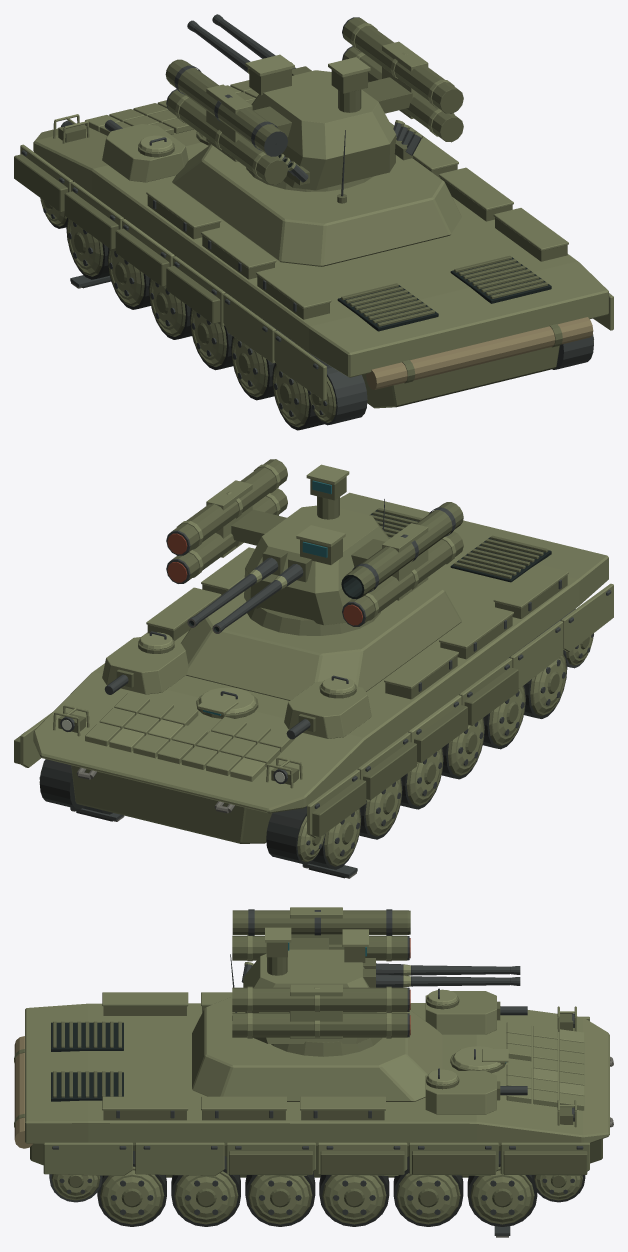
File: bmpt.glb
The picture shows the model from 3 angles, top to bottom: view 1: azimuth 30°, elevation 25°; view 2: azimuth 150°, elevation 25°; view 3: azimuth 270°, elevation 25°; orthographic projection. The views are drawn at different scales.
Parts seen in each view (by area): view 1: Low glacis and fender deck.001, Glacis ERA, fender bins and engine louvers.001, Armored fighting compartment.001, Elevated weapon pedestal and panoramic sight.001, Skirt panels • L.001, Twin 2A42s and four Ataka launch tubes.001, Unditching log and straps.001, Armored keel.001, Twin bow grenade-launcher stations.001, Launch canister | hollow liner.001, WheelL1, WheelL7 (+9 smaller); view 2: Low glacis and fender deck.001, Glacis ERA, fender bins and engine louvers.001, Armored fighting compartment.001, Elevated weapon pedestal and panoramic sight.001, Skirt panels • L.001, Twin 2A42s and four Ataka launch tubes.001, Twin bow grenade-launcher stations.001, Armored keel.001, Launch canister | hollow liner.001, WheelL2, WheelL8, WheelL3 (+9 smaller); view 3: Low glacis and fender deck.001, Glacis ERA, fender bins and engine louvers.001, Skirt panels • R.001, Armored fighting compartment.001, Twin 2A42s and four Ataka launch tubes.001, Elevated weapon pedestal and panoramic sight.001, Twin bow grenade-launcher stations.001, Launch canister | hollow liner.001, WheelR4, WheelR7, WheelR8, WheelR3 (+9 smaller).
Boxes of the visible parts, x1,y1,x2,y2 form: Low glacis and fender deck.001: [33, 122, 608, 377]; Glacis ERA, fender bins and engine louvers.001: [85, 80, 568, 331]; Armored fighting compartment.001: [172, 144, 461, 266]; Elevated weapon pedestal and panoramic sight.001: [245, 54, 423, 203]; Skirt panels • L.001: [14, 144, 326, 400]; Twin 2A42s and four Ataka launch tubes.001: [166, 17, 463, 184]; Unditching log and straps.001: [366, 317, 593, 389]; Armored keel.001: [175, 256, 559, 408]; Twin bow grenade-launcher stations.001: [102, 119, 188, 182]; Launch canister | hollow liner.001: [165, 59, 287, 156]; WheelL1: [308, 365, 367, 425]; WheelL7: [231, 320, 294, 400]; Low glacis and fender deck.001: [33, 492, 608, 813]; Glacis ERA, fender bins and engine louvers.001: [85, 508, 568, 781]; Armored fighting compartment.001: [181, 573, 461, 700]; Elevated weapon pedestal and panoramic sight.001: [231, 464, 389, 635]; Skirt panels • L.001: [307, 583, 613, 837]; Twin 2A42s and four Ataka launch tubes.001: [166, 459, 463, 626]; Twin bow grenade-launcher stations.001: [102, 631, 371, 739]; Armored keel.001: [71, 694, 459, 843]; Launch canister | hollow liner.001: [341, 502, 463, 599]; WheelL2: [266, 806, 324, 864]; WheelL8: [505, 639, 567, 718]; WheelL3: [309, 808, 361, 869]; Low glacis and fender deck.001: [25, 1003, 609, 1146]; Glacis ERA, fender bins and engine louvers.001: [51, 992, 584, 1120]; Skirt panels • R.001: [43, 1142, 589, 1175]; Armored fighting compartment.001: [192, 996, 442, 1101]; Twin 2A42s and four Ataka launch tubes.001: [232, 907, 410, 1038]; Elevated weapon pedestal and panoramic sight.001: [230, 927, 382, 1056]; Twin bow grenade-launcher stations.001: [425, 988, 527, 1114]; Launch canister | hollow liner.001: [232, 909, 410, 935]; WheelR4: [393, 1156, 463, 1226]; WheelR7: [171, 1156, 240, 1226]; WheelR8: [97, 1151, 166, 1226]; WheelR3: [467, 1151, 537, 1226].
Bounding box in the file's own units: 2.69 × 2.32 × 5.07.
